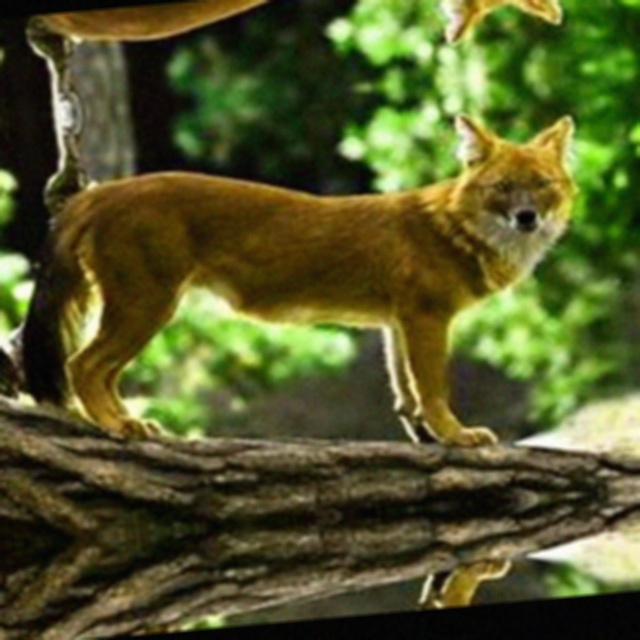dog: (0, 128, 625, 476), (46, 556, 640, 640), (0, 0, 581, 58)
